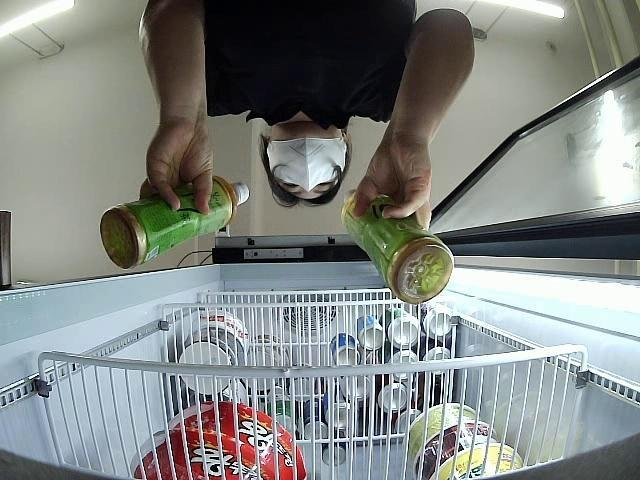19_17cha: (100, 178, 250, 268), (342, 194, 452, 304)
